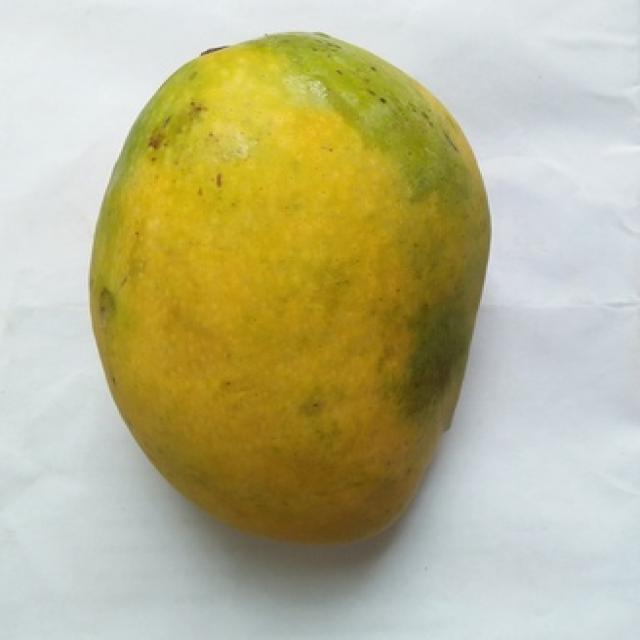Mango: (92, 34, 488, 541)
